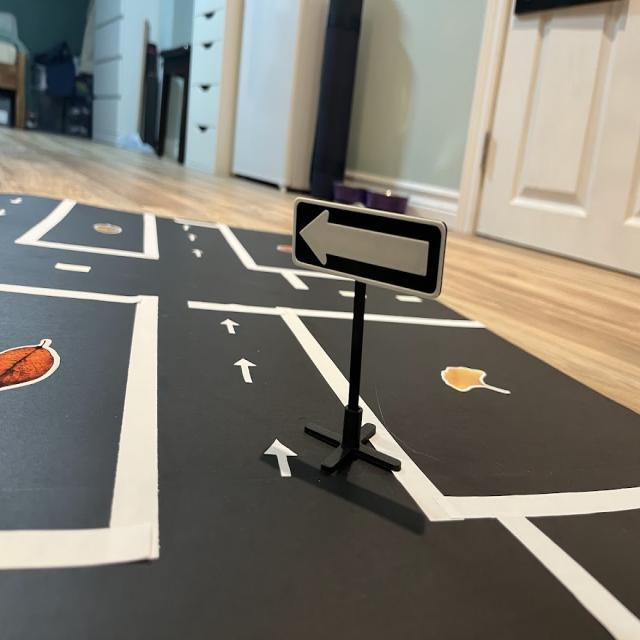road_oneway: (258, 429, 303, 484), (233, 353, 259, 397), (222, 315, 248, 342), (189, 247, 208, 263), (186, 233, 198, 245)
sign_oneway_left: (291, 196, 450, 302)
